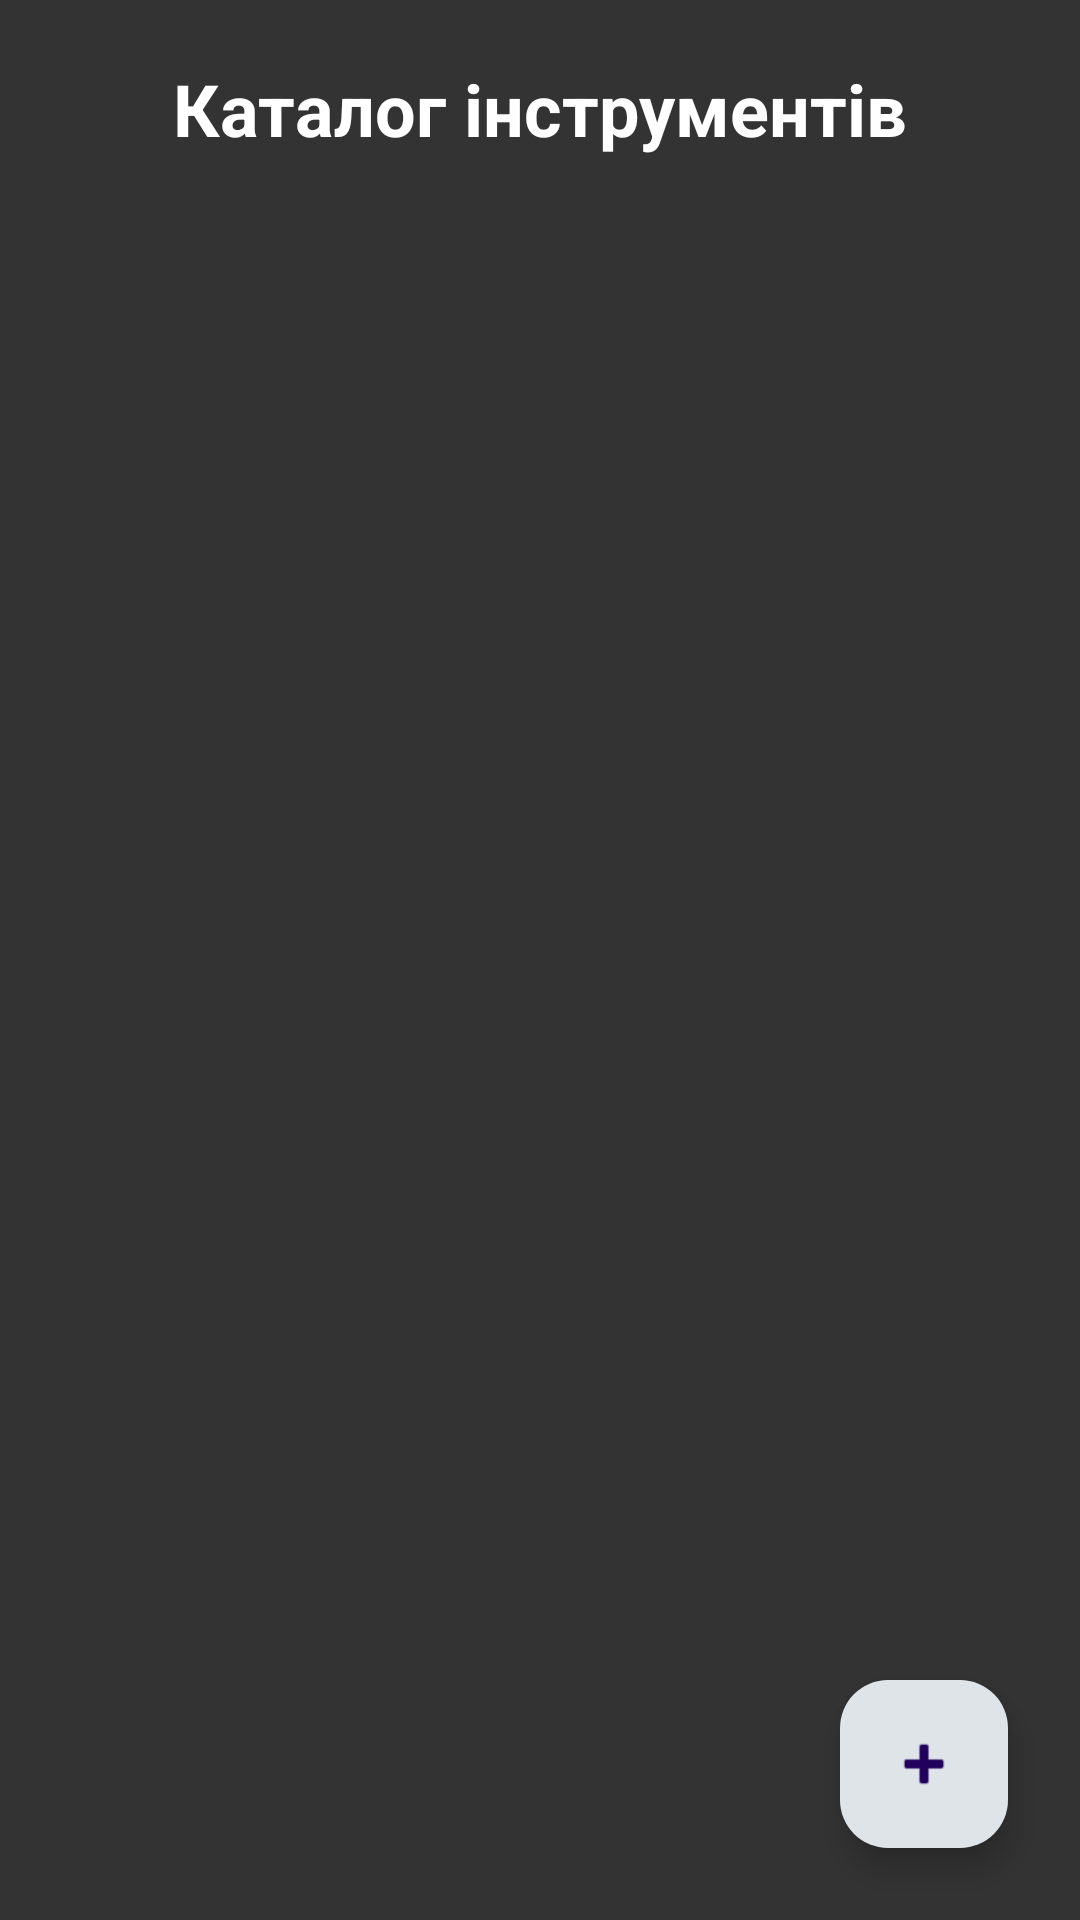

Screen size 1080px×1920px. Icon name, then its box in pixels as (x1, y1, x2, y2):
Додати інструмент: (840, 1680, 1008, 1848)
